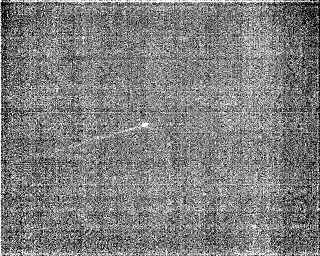AIRPLANE: (54, 120, 153, 152)
